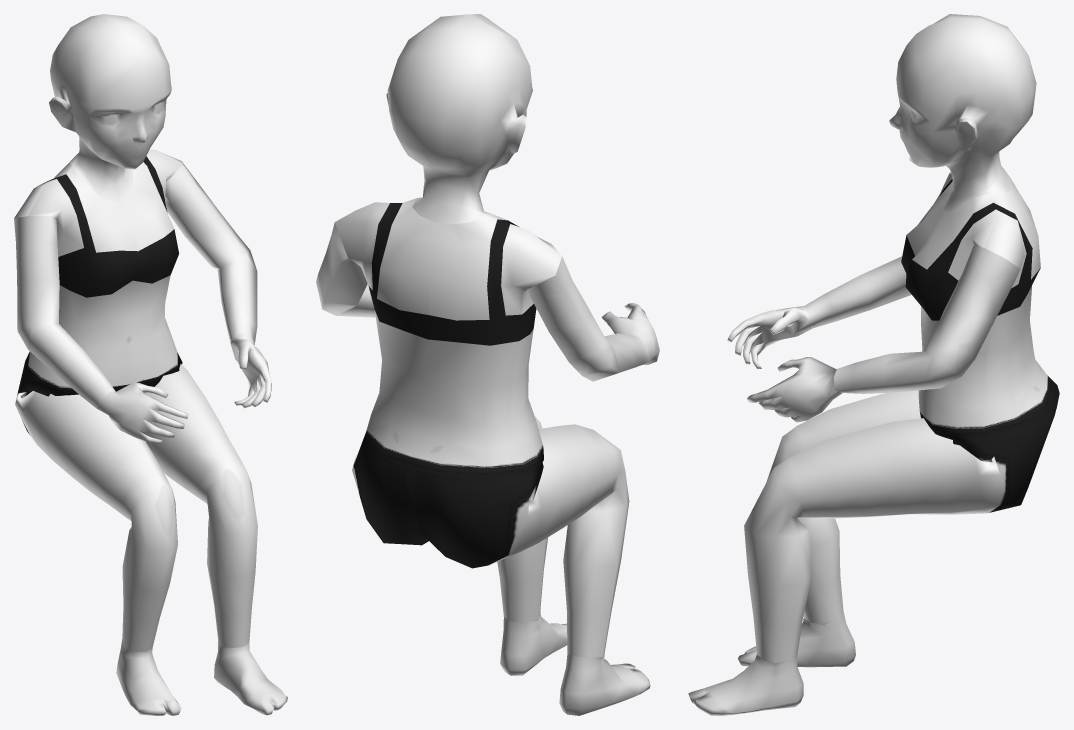
The model's file is SeatedFemale00.glb.
3 views of the same model, side by side, from view 1: azimuth 30°, elevation 25°; view 2: azimuth 150°, elevation 25°; view 3: azimuth 270°, elevation 25° (orthographic). The views are drawn at different scales.
Visible parts, largest first — view 1: SeatedFemale_Obj; view 2: SeatedFemale_Obj; view 3: SeatedFemale_Obj.
Part boxes in pixels (x1,y1,x2,y2): SeatedFemale_Obj: (14,14,287,715); SeatedFemale_Obj: (316,14,659,715); SeatedFemale_Obj: (688,14,1059,715).
Bounding box in the file's own units: 0.631 × 1.54 × 0.7778.
1 material, 1 textured.
